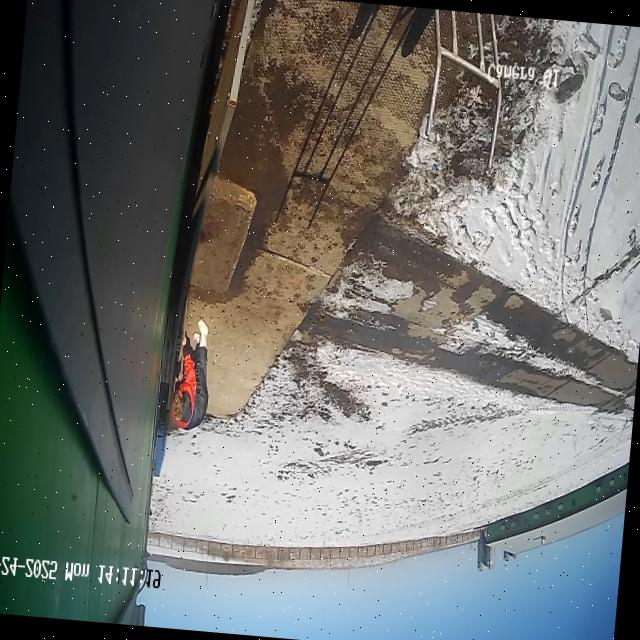Red uniform: (169, 318, 208, 430)
